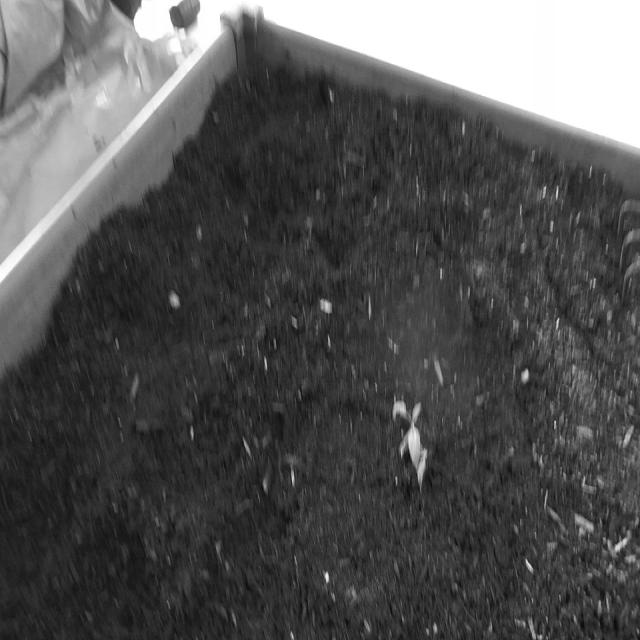Healthy: (390, 393, 430, 487)
